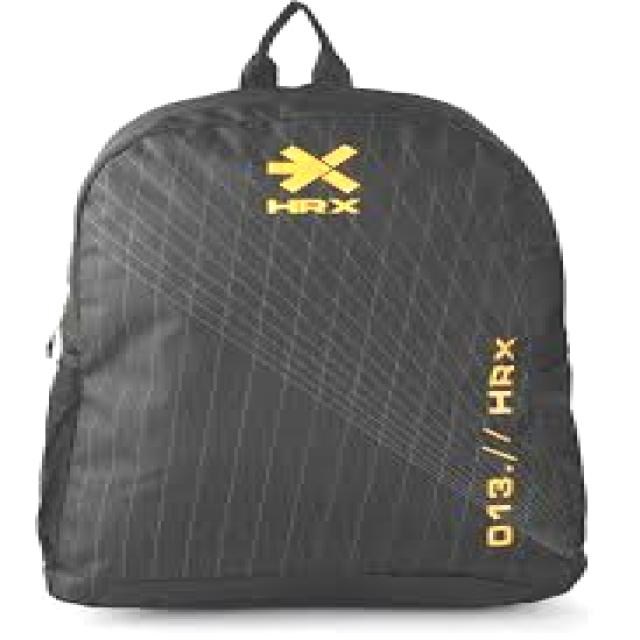backpack: (36, 1, 588, 608)
